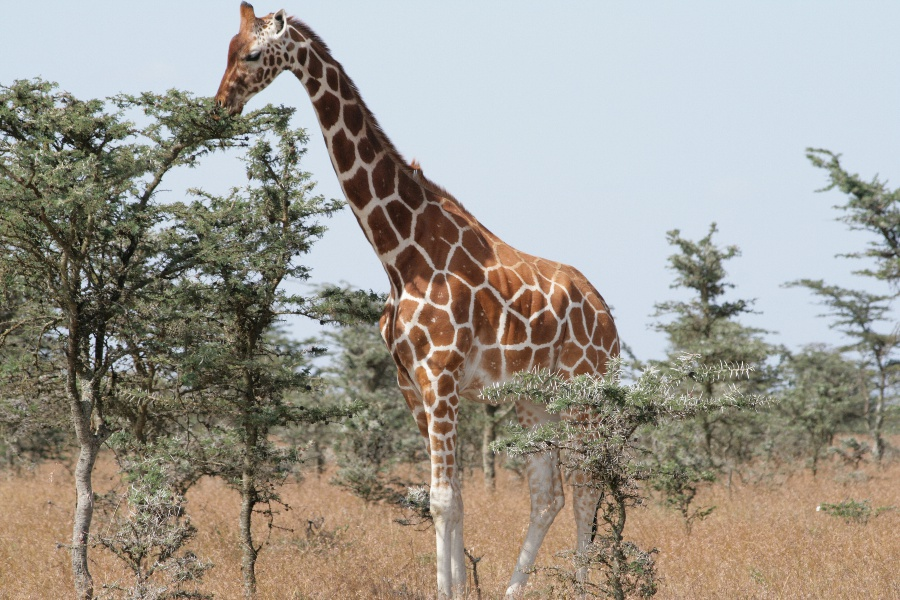giraffe: (195, 0, 641, 598)
